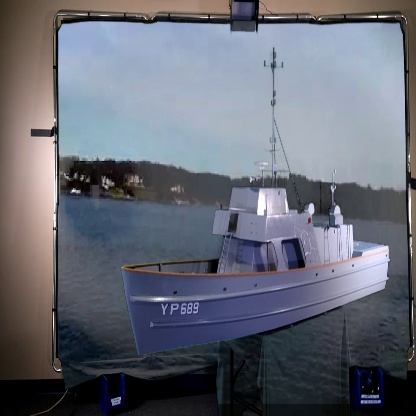YP689: (121, 40, 388, 359)
